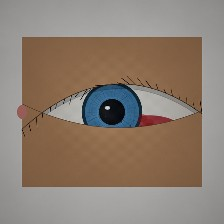hemorrhage_spot: (105, 94, 193, 165)
